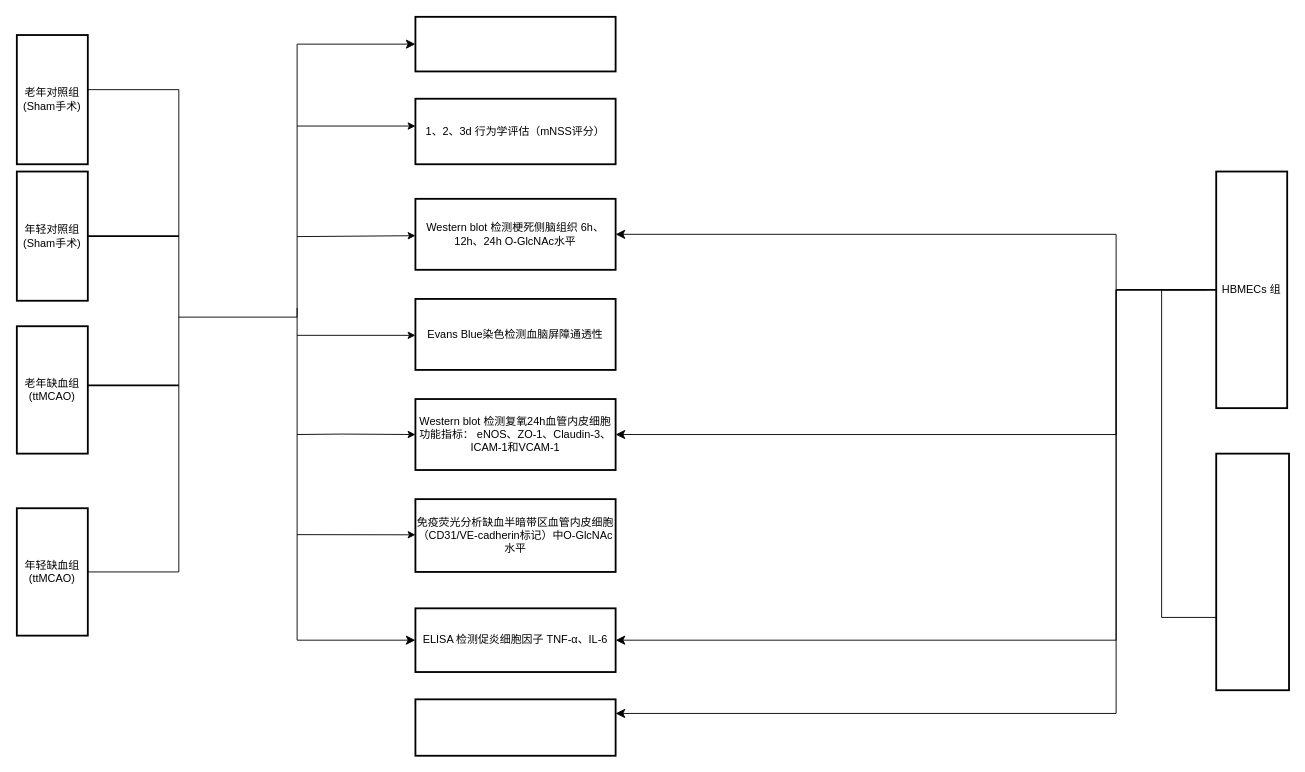
This 1305x772 diagram has some shape labels left out. The shapes that lost their labels are listed below. From the top down, each one's box as (x1, y1, x2, y2) in pixels, then its label:
(414, 15, 616, 72): 1、2、3d脑梗死体积测定 TTC染色
(1215, 452, 1289, 691): HBMECs +OGD/R组
(414, 698, 616, 756): CCK-8 方法检测复氧24h内皮细胞活性
